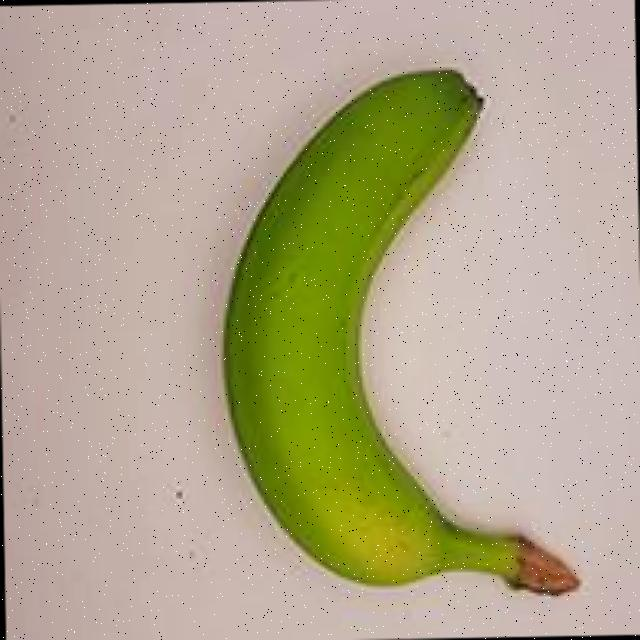Unripe: (128, 24, 624, 629)
